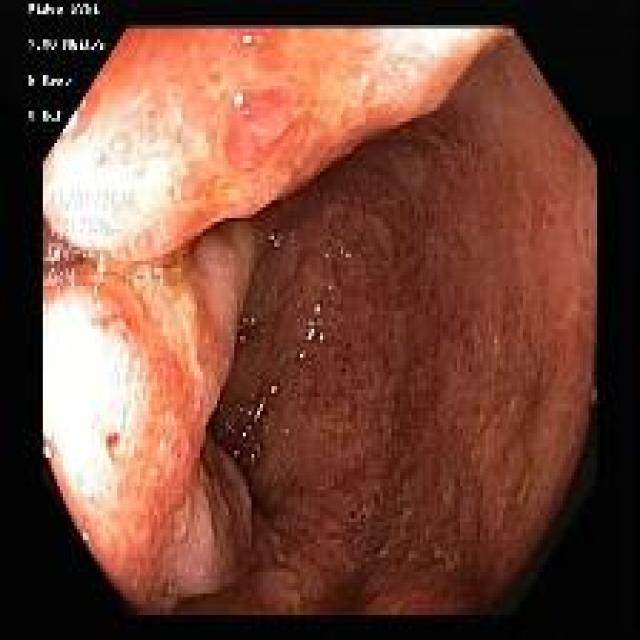ulcerative-colitis: (44, 28, 596, 614)
